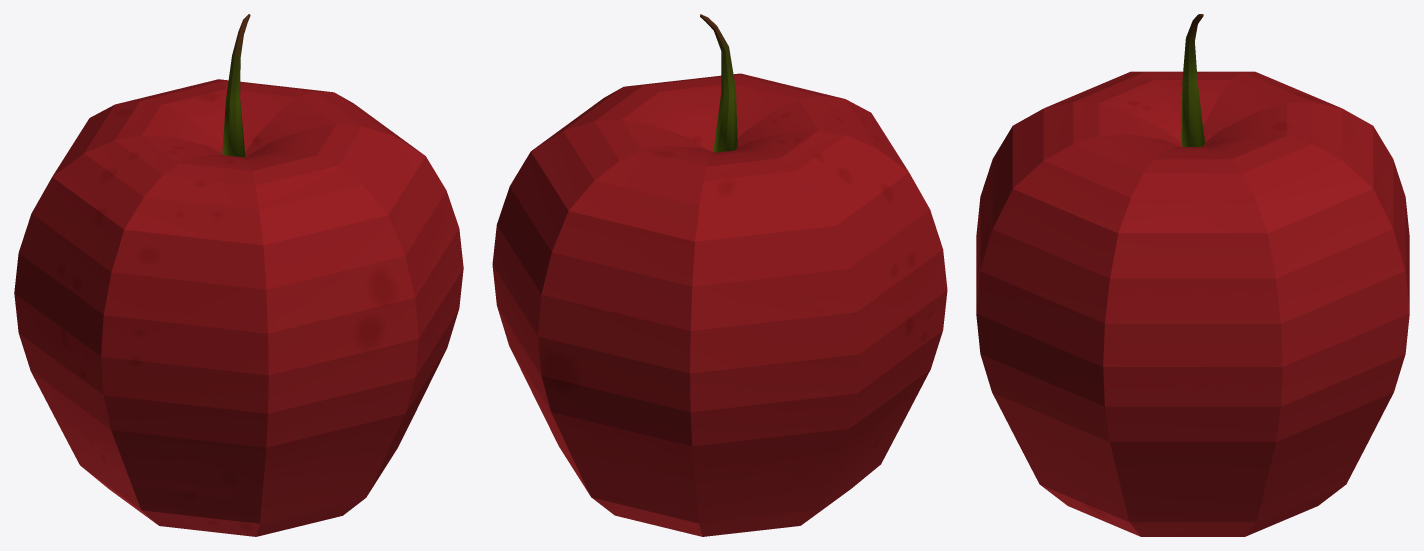
Rendered from apple textured.fbx.
3 views of the same model, side by side, from view 1: azimuth 30°, elevation 25°; view 2: azimuth 150°, elevation 25°; view 3: azimuth 270°, elevation 25° (orthographic). The views are drawn at different scales.
Visible parts, largest first — view 1: apple, stem; view 2: apple, stem; view 3: apple, stem.
Boxes of the visible parts, <box> form: apple: <box>14,79,463,536</box>; stem: <box>222,14,250,157</box>; apple: <box>492,73,947,536</box>; stem: <box>700,14,737,152</box>; apple: <box>976,71,1409,536</box>; stem: <box>1180,14,1204,146</box>.
Size of the model in its own units: 225 by 278 by 225.
